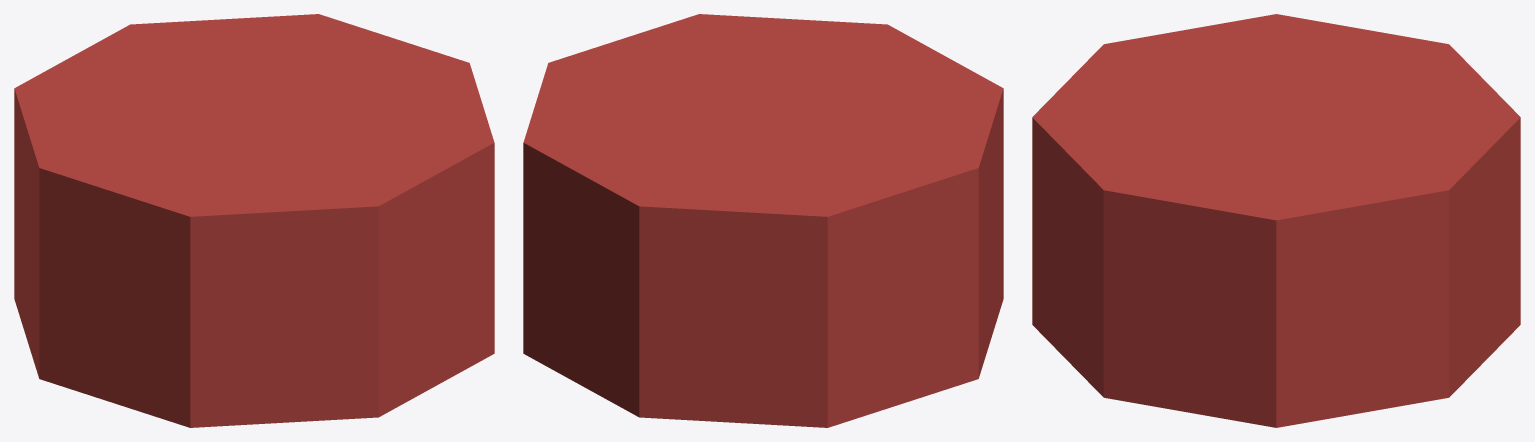
The model's file is dial_lod2.glb.
3 renders of one model, left to right at view 1: azimuth 30°, elevation 25°; view 2: azimuth 150°, elevation 25°; view 3: azimuth 270°, elevation 25°, orthographic.
Visible parts, largest first — view 1: dial_lod2; view 2: dial_lod2; view 3: dial_lod2.
Boxes of the visible parts, x1,y1,x2,y2 form: dial_lod2: [14, 14, 494, 427]; dial_lod2: [523, 14, 1003, 427]; dial_lod2: [1032, 14, 1520, 427].
Bounding box in the file's own units: 0.096 × 0.045 × 0.096.
